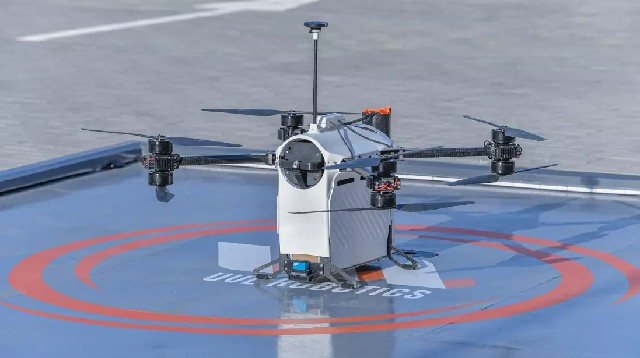maybay_khongnguoilai: (107, 89, 543, 272)
